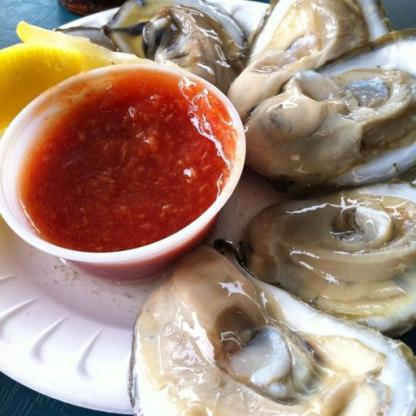oyster: (124, 248, 415, 415), (241, 30, 415, 192), (236, 176, 415, 325), (224, 0, 392, 114), (106, 0, 241, 86)
